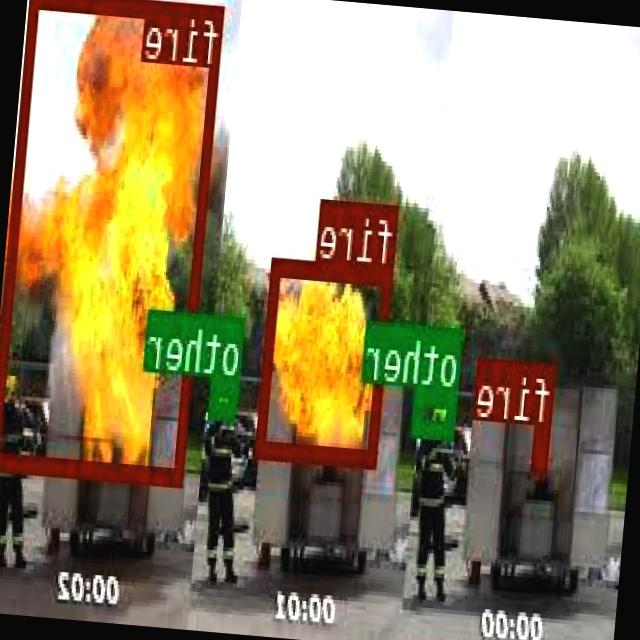fire: (0, 0, 225, 481), (257, 256, 396, 462), (534, 422, 552, 472)
